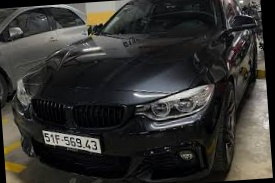Bien-so: (42, 126, 101, 158)
